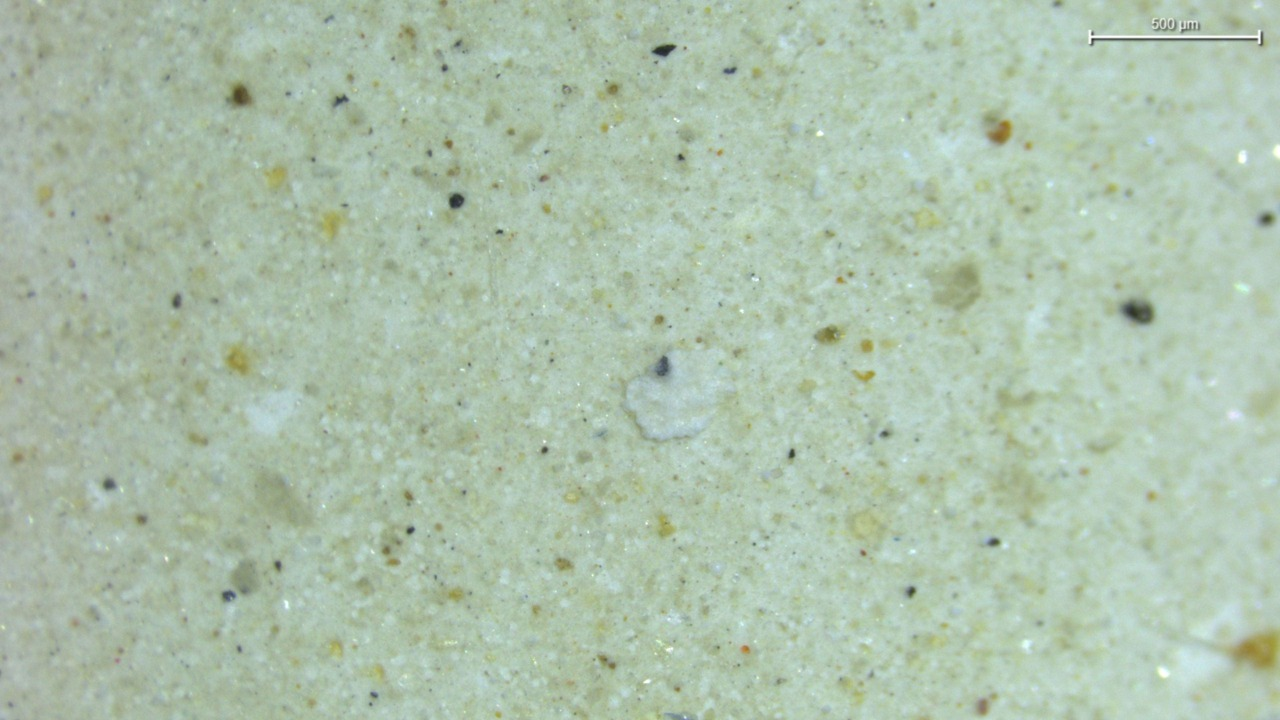microplastic_fragment: (624, 350, 735, 440)
